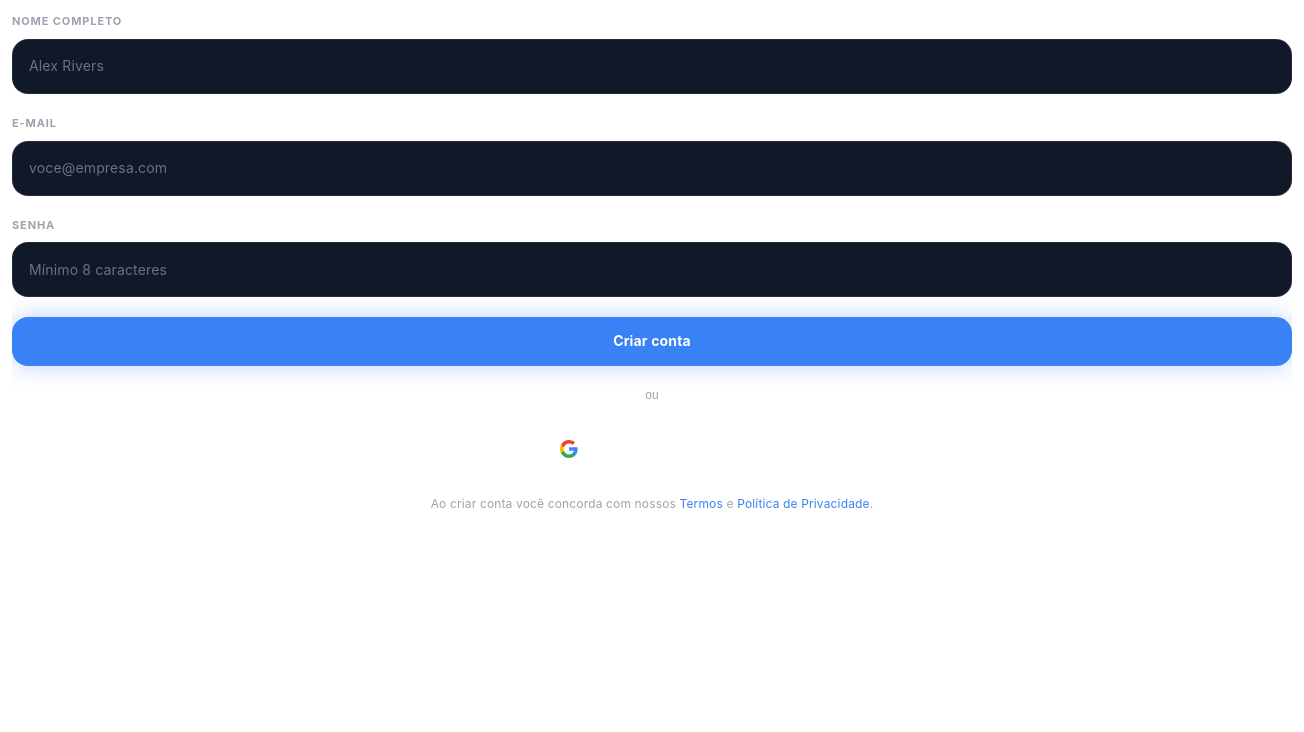
Test case: <RegisterForm /> › exibe feedback de erro quando o cadastro falha
In the field with placeholder "Alex Rivers": [652, 66] box [29,52,1275,81], type "Ana Maria"
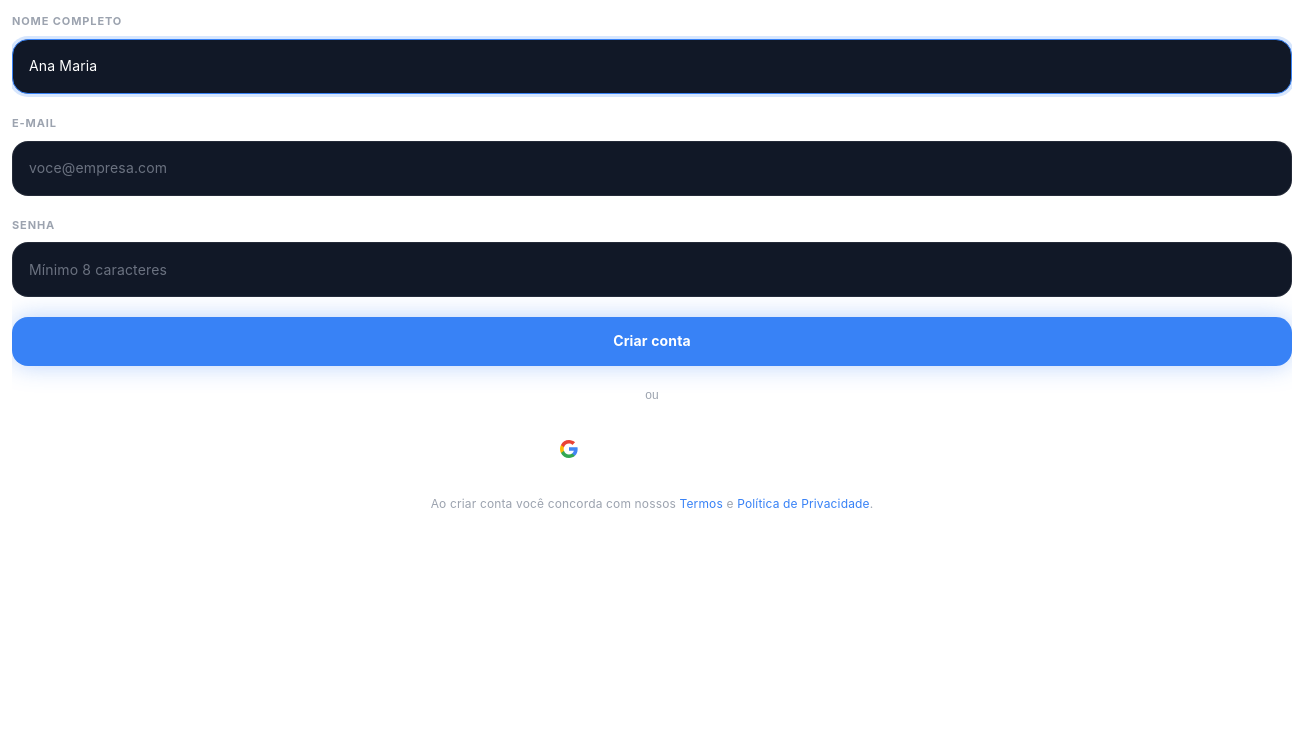
In the field with placeholder "voce@empresa.com": [652, 168] box [29,154,1275,183], type "ana@b.com"
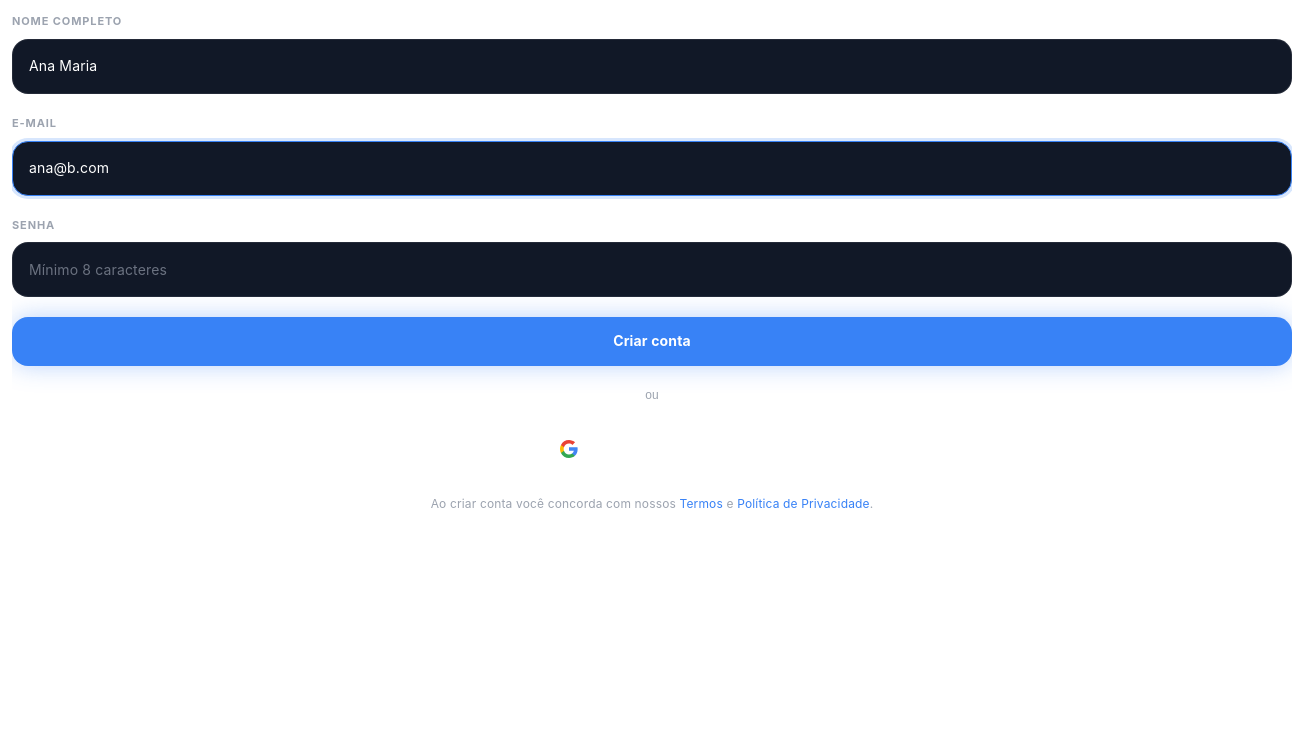
In the password field with placeholder "Mínimo 8 caracteres": [652, 270] box [29,255,1275,284], type "12345678"
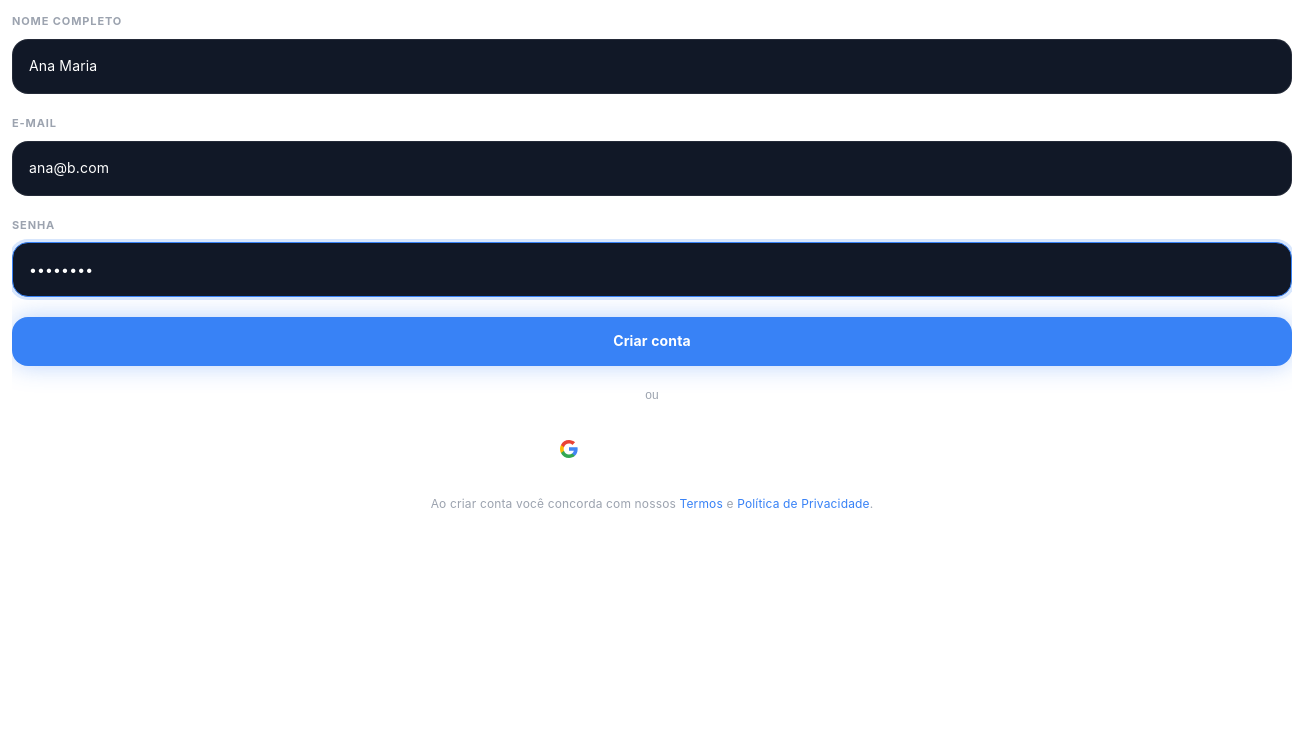
Click the button "Criar conta": [652, 342] box [12,317,1292,366]
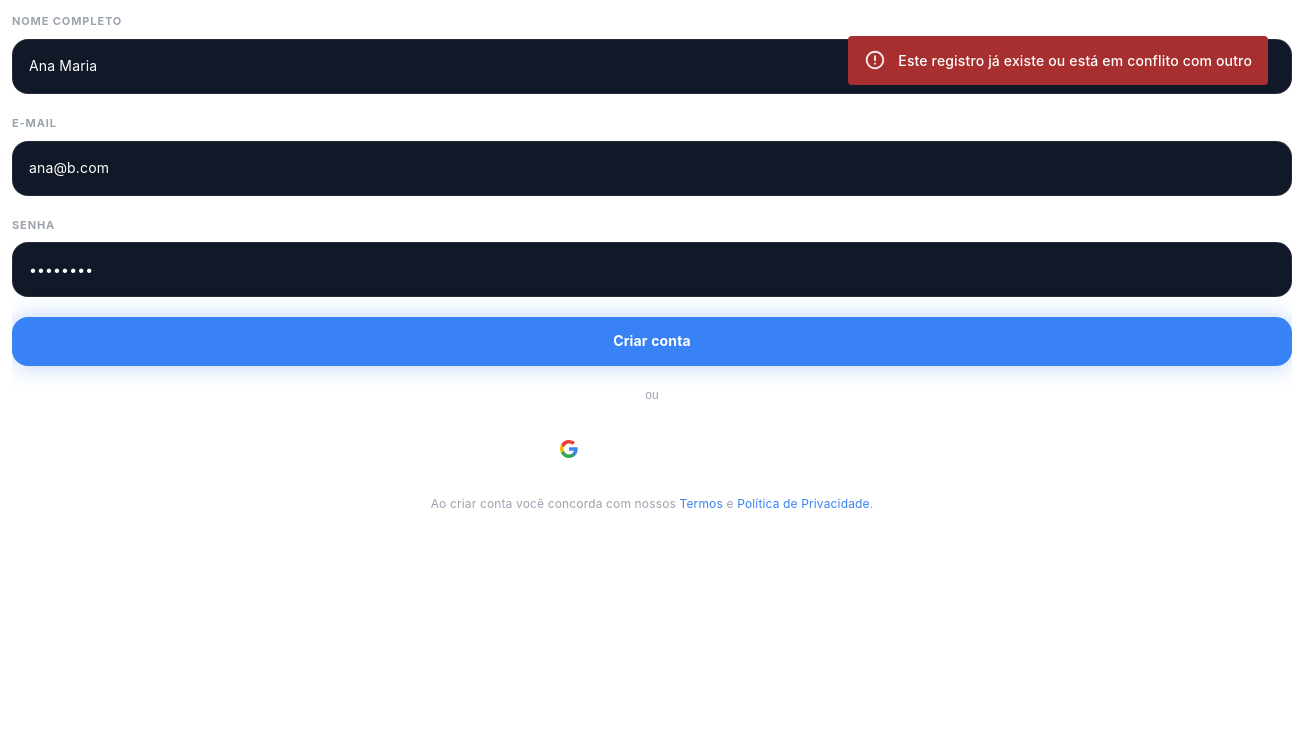
Now the text "Este registro já existe ou está em conflito com outro" is shown, box [898,52,1252,69]
